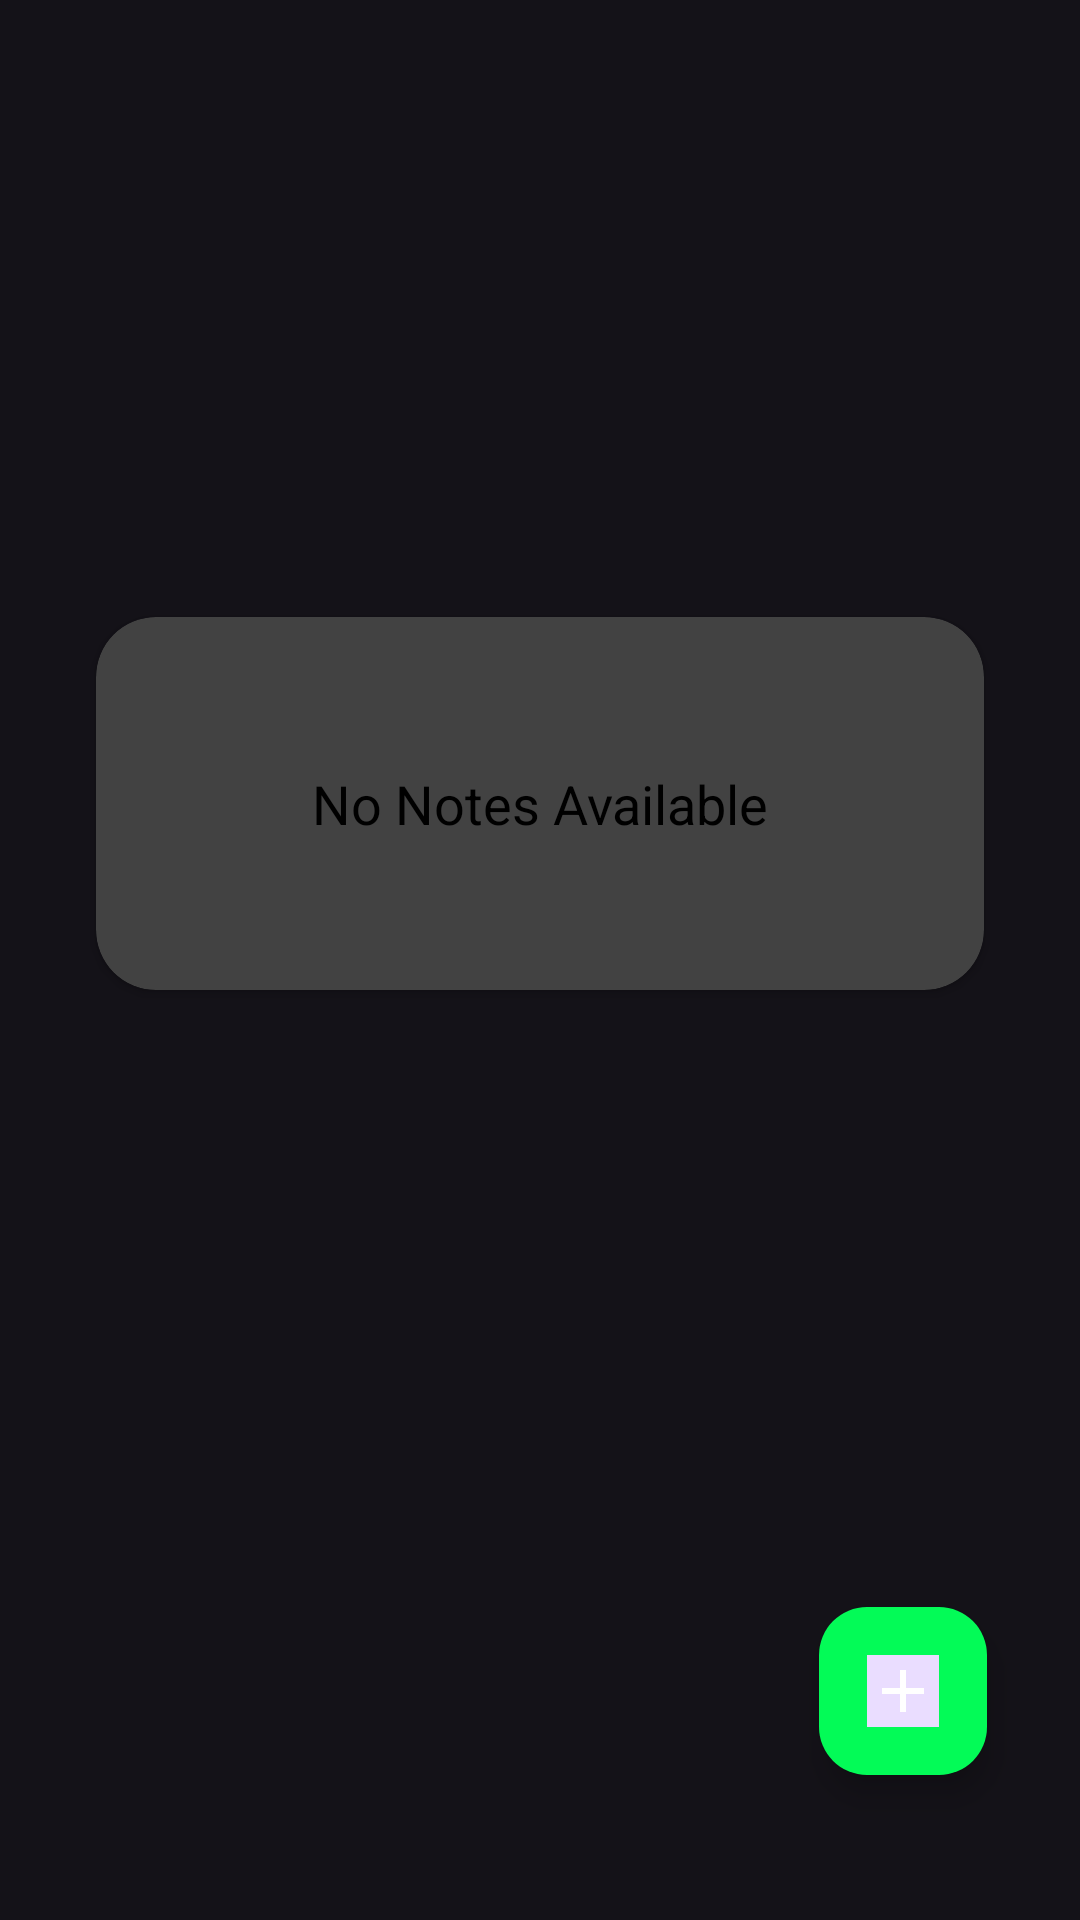

Point at icon controls on the screen. Image size 1080 x 1920, points as point (x, y).
add: point (903, 1691)
